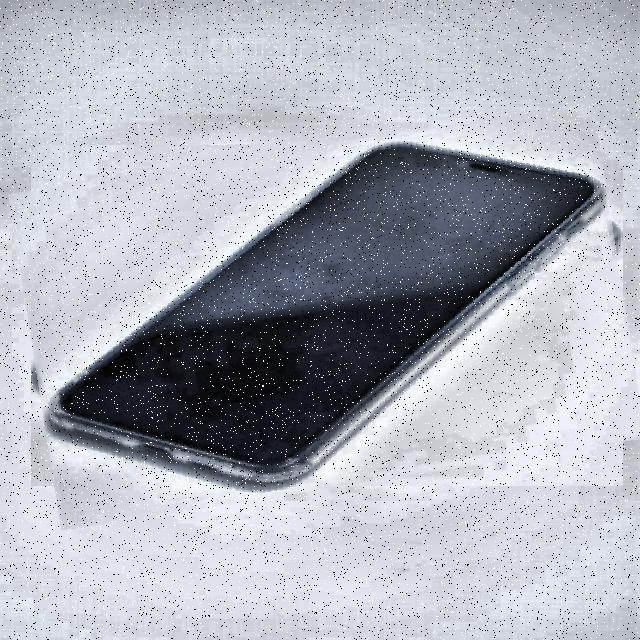Phone: (20, 123, 634, 508)
